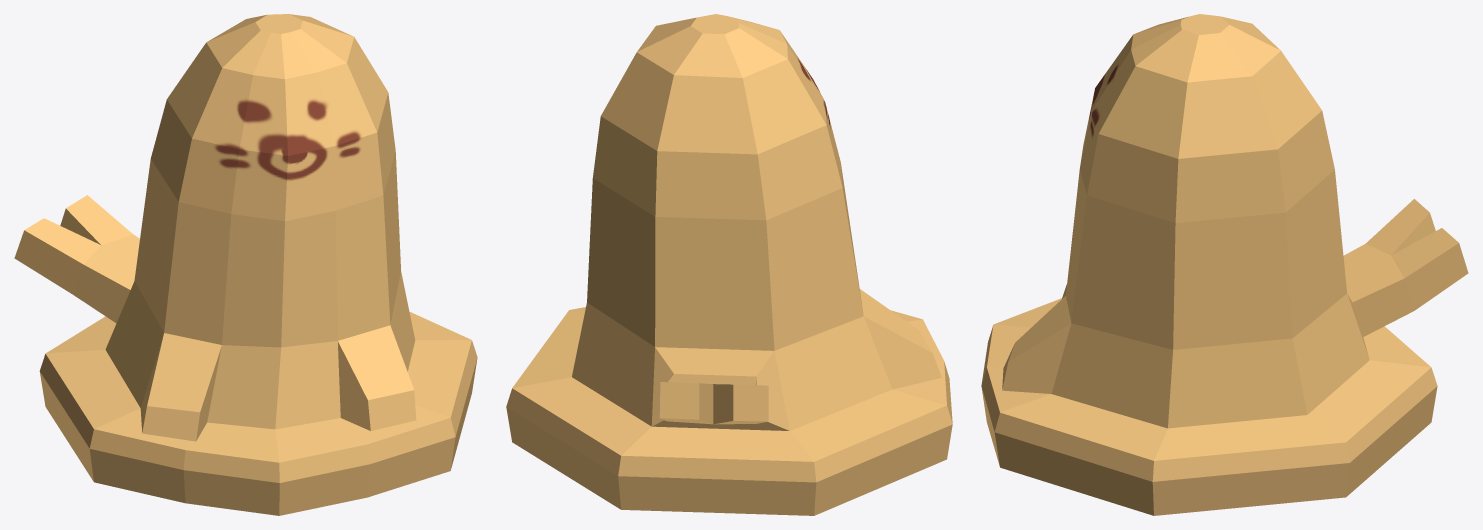
The model's file is goldSEAL.fbx.
The picture shows the model from 3 angles, left to right: view 1: azimuth 30°, elevation 25°; view 2: azimuth 150°, elevation 25°; view 3: azimuth 270°, elevation 25°; orthographic projection. The views are drawn at different scales.
Visible parts, largest first — view 1: Cylinder; view 2: Cylinder; view 3: Cylinder.
Boxes of the visible parts, x1,y1,x2,y2 form: Cylinder: [14, 14, 477, 515]; Cylinder: [506, 14, 952, 515]; Cylinder: [981, 14, 1468, 515].
Size of the model in its own units: 46.91 by 46.14 by 49.71.
1 material, 1 textured.
